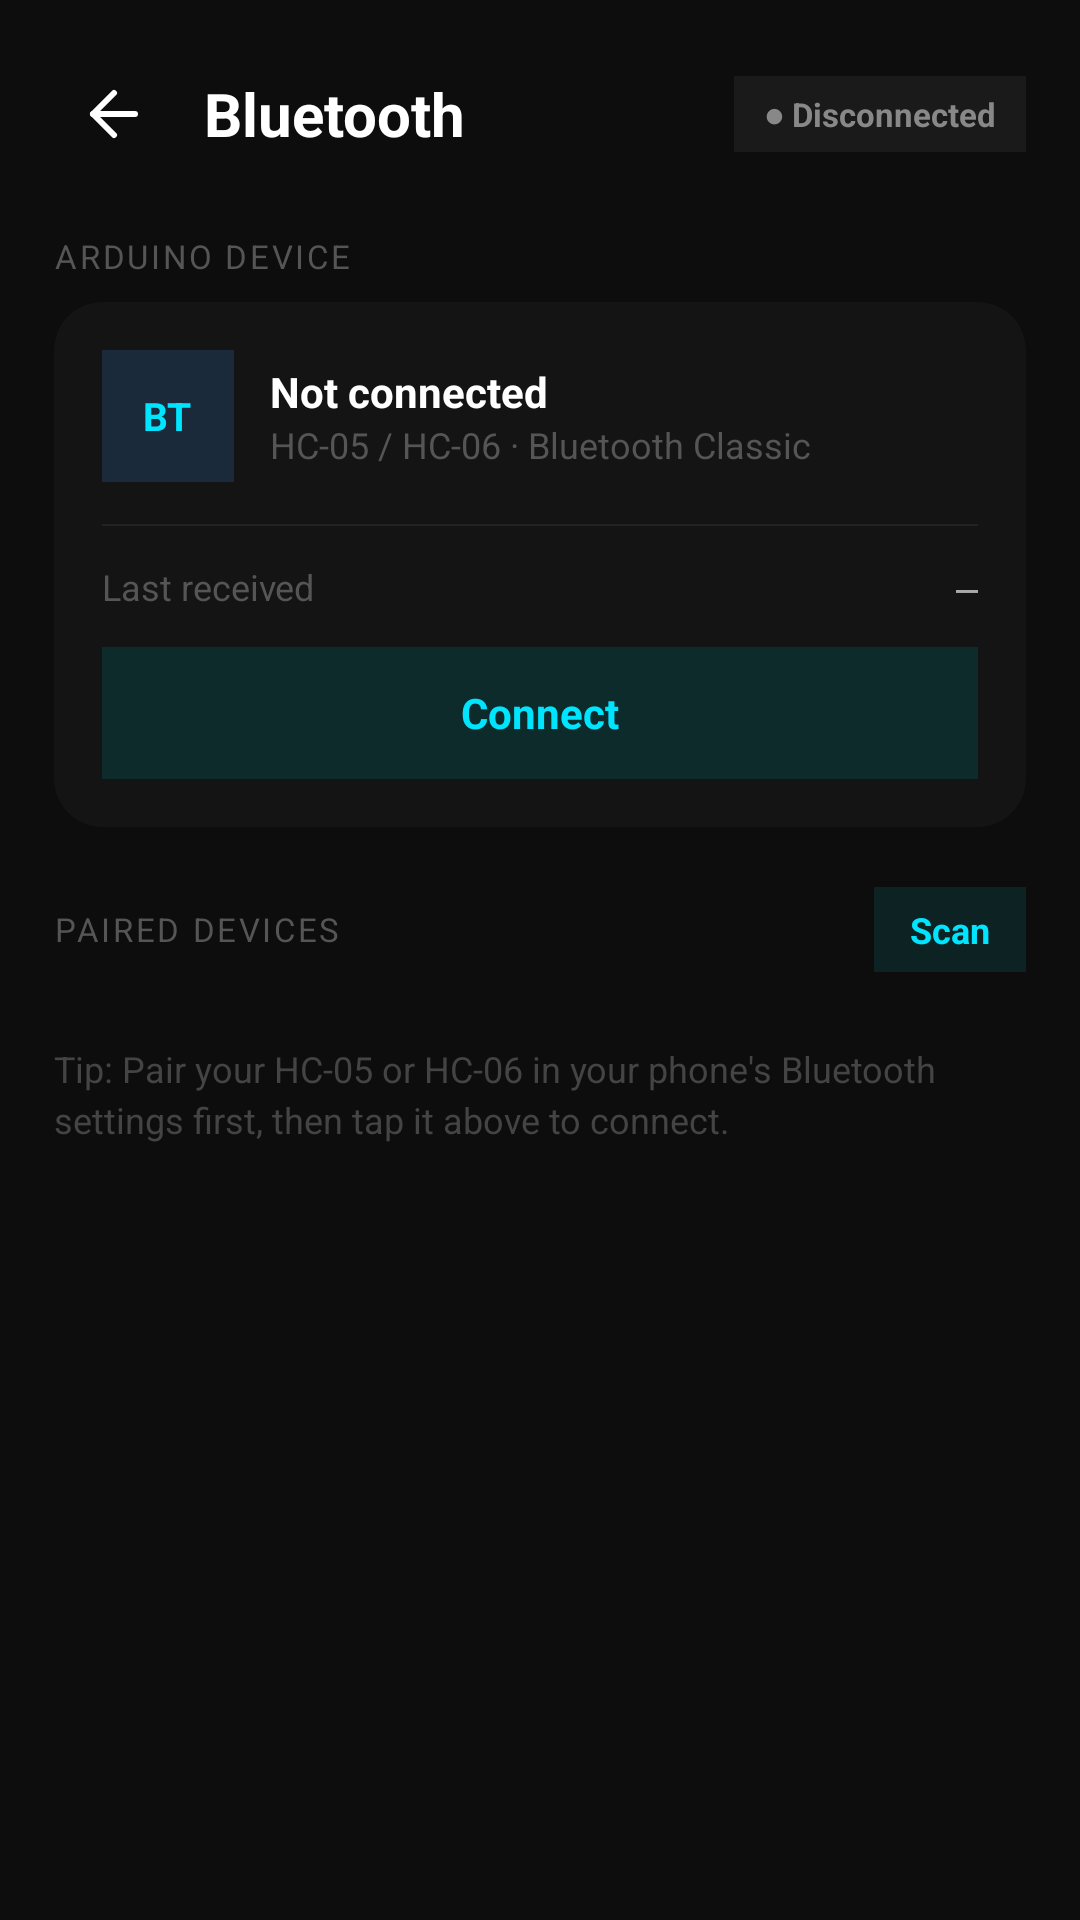

Icons on this 1080×1920 Android screen, each with its box as bbox=(x1, y1, x2, y2):
back: bbox=(90, 90, 138, 138)
